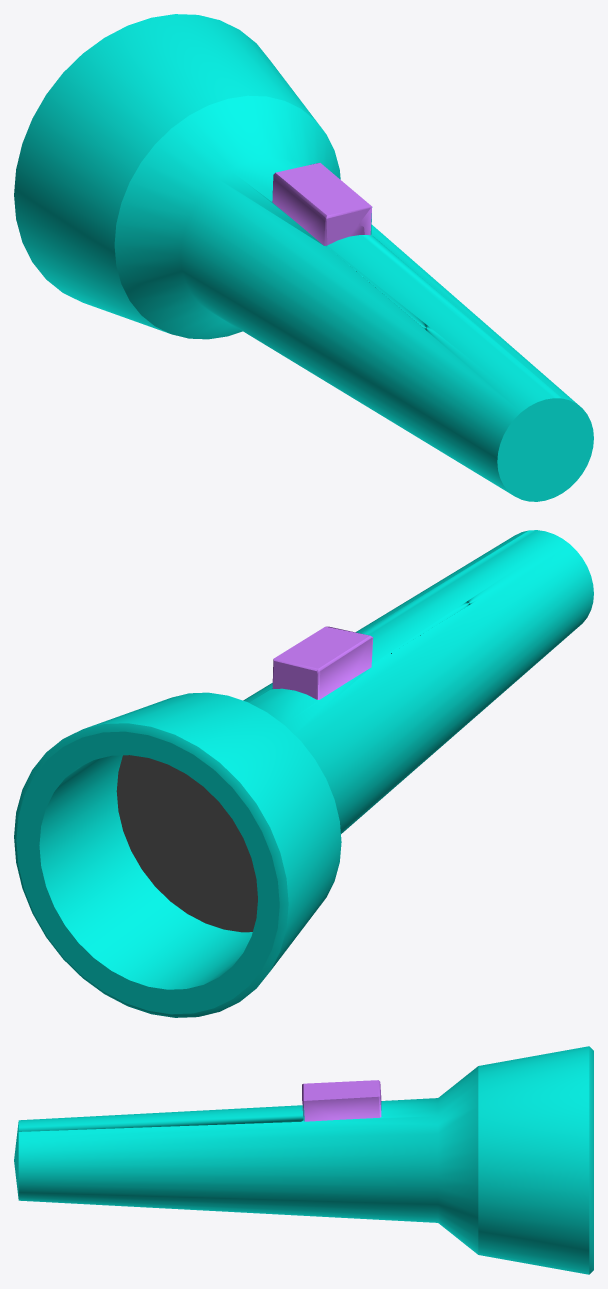
The model's file is flashLight_edit.fbx.
The picture shows the model from 3 angles, top to bottom: view 1: azimuth 30°, elevation 25°; view 2: azimuth 150°, elevation 25°; view 3: azimuth 270°, elevation 25°; orthographic projection. The views are drawn at different scales.
Visible parts, largest first — view 1: Flashlight; view 2: Flashlight; view 3: Flashlight.
Boxes of the visible parts, <box> form: Flashlight: <box>14,14,593,501</box>; Flashlight: <box>14,530,593,1017</box>; Flashlight: <box>14,1046,593,1274</box>.
Size of the model in its own units: 146 by 146 by 370.
